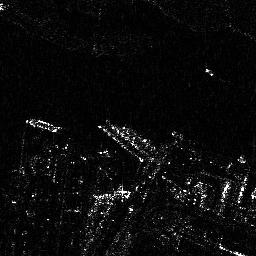ship: (105, 117, 155, 152), (21, 116, 63, 134)
